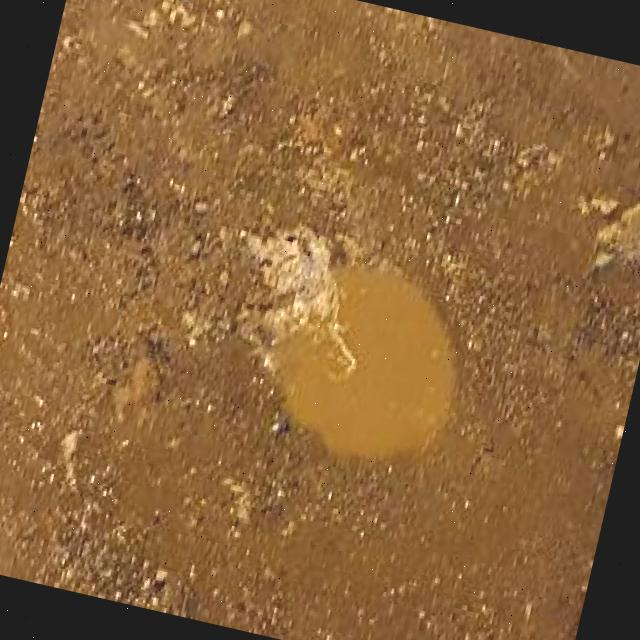stagnation: (195, 212, 498, 493)
